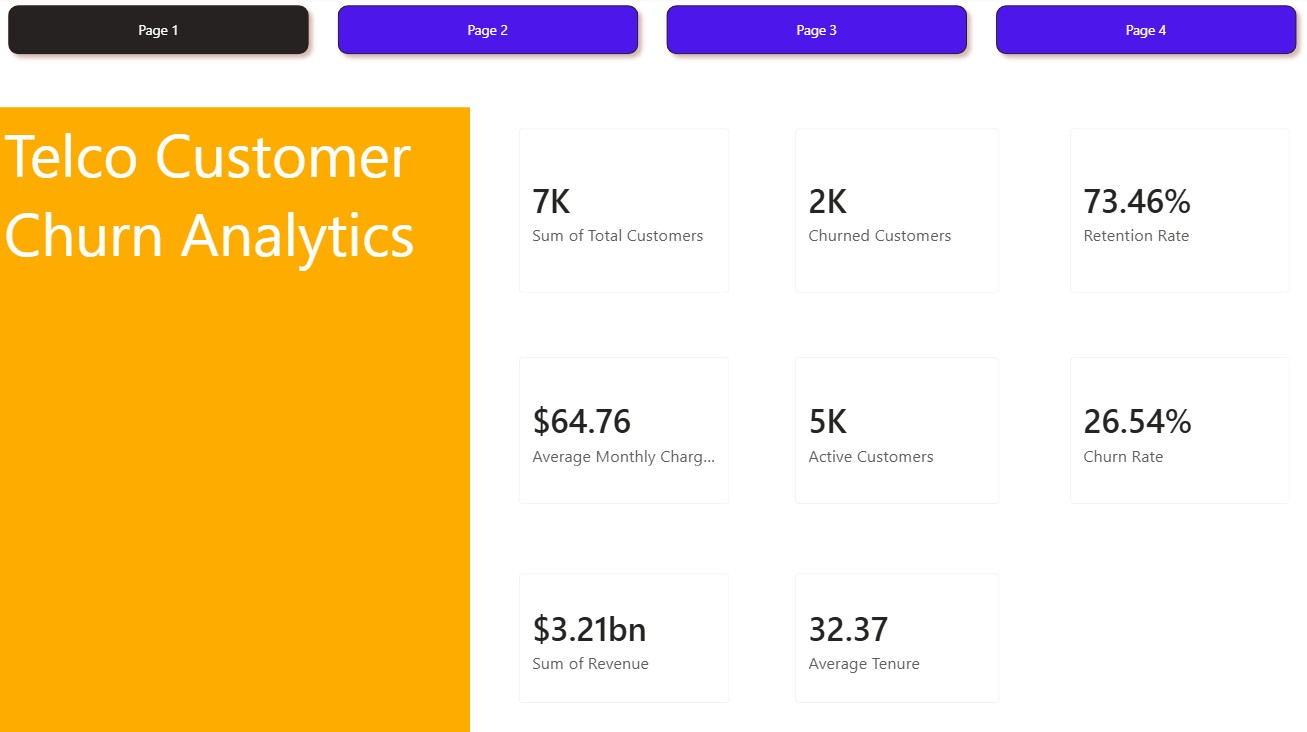

The page's visual inventory and layout, read from the dashboard file:
{"tool":"powerbi","page":{"name":"Page 1","canvas":[1280,720],"ordinal":0},"visuals":[{"type":"textbox","box":[0,108.8,461,611.4],"z":0},{"type":"cardVisual","fields":{"Data":["Sum(Customer.Total Customers)"]},"box":[491.6,112.5,240.9,195.7],"z":1000},{"type":"cardVisual","fields":{"Data":["Customer.Churned Customers"]},"box":[761.8,112.5,234.8,195.7],"z":2000},{"type":"cardVisual","fields":{"Data":["Customer.Active Customers"]},"box":[761.8,336.3,234.8,178.5],"z":3000},{"type":"cardVisual","fields":{"Data":["Customer.Churn Rate"]},"box":[1030.8,336.3,249.5,178.5],"z":4000},{"type":"cardVisual","fields":{"Data":["Customer.Retention Rate"]},"box":[1030.8,112.5,249.5,195.7],"z":5000},{"type":"cardVisual","fields":{"Data":["Sum(Customer.Revenue)"]},"box":[491.6,547.8,240.9,161.4],"z":6000},{"type":"cardVisual","fields":{"Data":["Customer.Average Monthly Charges"]},"box":[491.6,336.3,240.9,178.5],"z":7000},{"type":"cardVisual","fields":{"Data":["Customer.Average Tenure"]},"box":[761.8,547.8,234.8,161.4],"z":8000},{"type":"pageNavigator","box":[0,0,1280.3,66],"z":9000}]}

Visuals, with their boxes in screenshot pixels (x1, y1, x2, y2), scaled from the page's 1280x720 canvas onto the 1307x732 screenshot:
textbox: left=0, top=111, right=471, bottom=731
cardVisual - Sum(Customer.Total Customers): left=502, top=114, right=748, bottom=313
cardVisual - Customer.Churned Customers: left=778, top=114, right=1018, bottom=313
cardVisual - Customer.Active Customers: left=778, top=342, right=1018, bottom=523
cardVisual - Customer.Churn Rate: left=1053, top=342, right=1306, bottom=523
cardVisual - Customer.Retention Rate: left=1053, top=114, right=1306, bottom=313
cardVisual - Sum(Customer.Revenue): left=502, top=557, right=748, bottom=721
cardVisual - Customer.Average Monthly Charges: left=502, top=342, right=748, bottom=523
cardVisual - Customer.Average Tenure: left=778, top=557, right=1018, bottom=721
pageNavigator: left=0, top=0, right=1306, bottom=67
